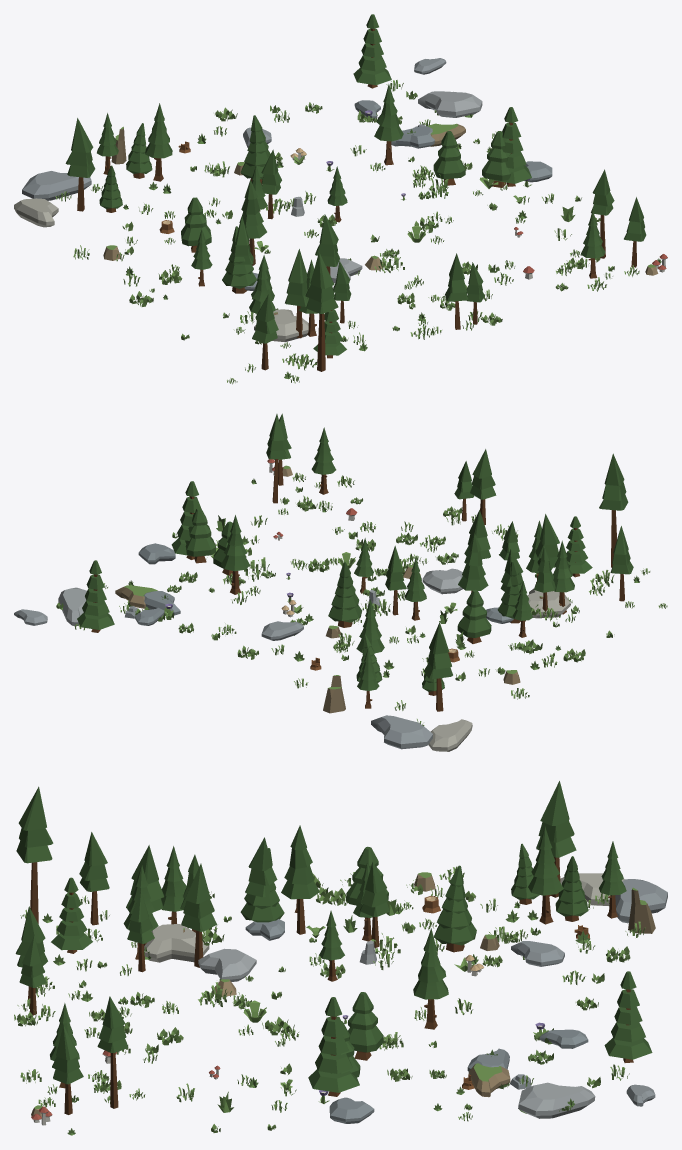
File: cell_x2_z-2_render.gltf
3 views of the same model, one above another, from view 1: azimuth 30°, elevation 25°; view 2: azimuth 150°, elevation 25°; view 3: azimuth 270°, elevation 25° (orthographic). The views are drawn at different scales.
Visible parts, largest first — view 1: cell_x2_z-2; view 2: cell_x2_z-2; view 3: cell_x2_z-2.
Boxes of the visible parts, x1,y1,x2,y2 form: cell_x2_z-2: (14, 14, 667, 384); cell_x2_z-2: (14, 413, 667, 751); cell_x2_z-2: (14, 781, 667, 1135).
Bounding box in the file's own units: 41.71 × 11.34 × 42.32.
